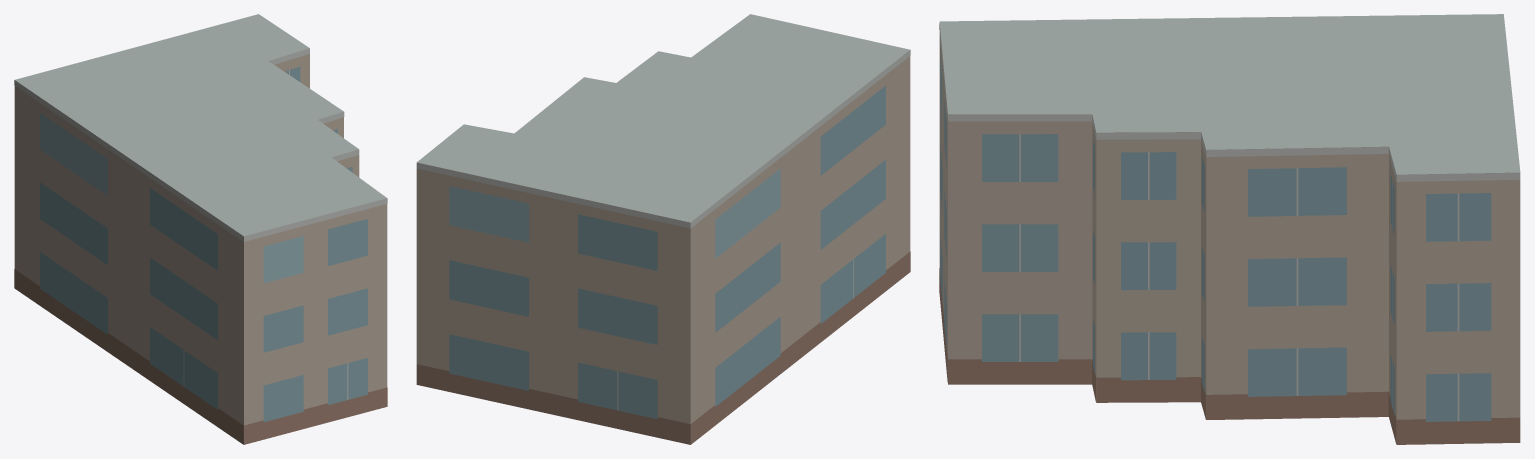
The model's file is survey-upis-33027346.glb.
3 views of the same model, side by side, from view 1: azimuth 30°, elevation 25°; view 2: azimuth 150°, elevation 25°; view 3: azimuth 270°, elevation 25° (orthographic). The views are drawn at different scales.
Visible parts, largest first — view 1: survey-upis-33027346.tmp; view 2: survey-upis-33027346.tmp; view 3: survey-upis-33027346.tmp.
Part boxes in pixels (x1,y1,x2,y2): survey-upis-33027346.tmp: (14, 14, 387, 444); survey-upis-33027346.tmp: (416, 14, 910, 444); survey-upis-33027346.tmp: (939, 14, 1520, 444).
Bounding box in the file's own units: 11.61 × 9.1 × 17.74.
